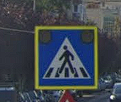trecere_pietoni: (32, 24, 100, 92)
